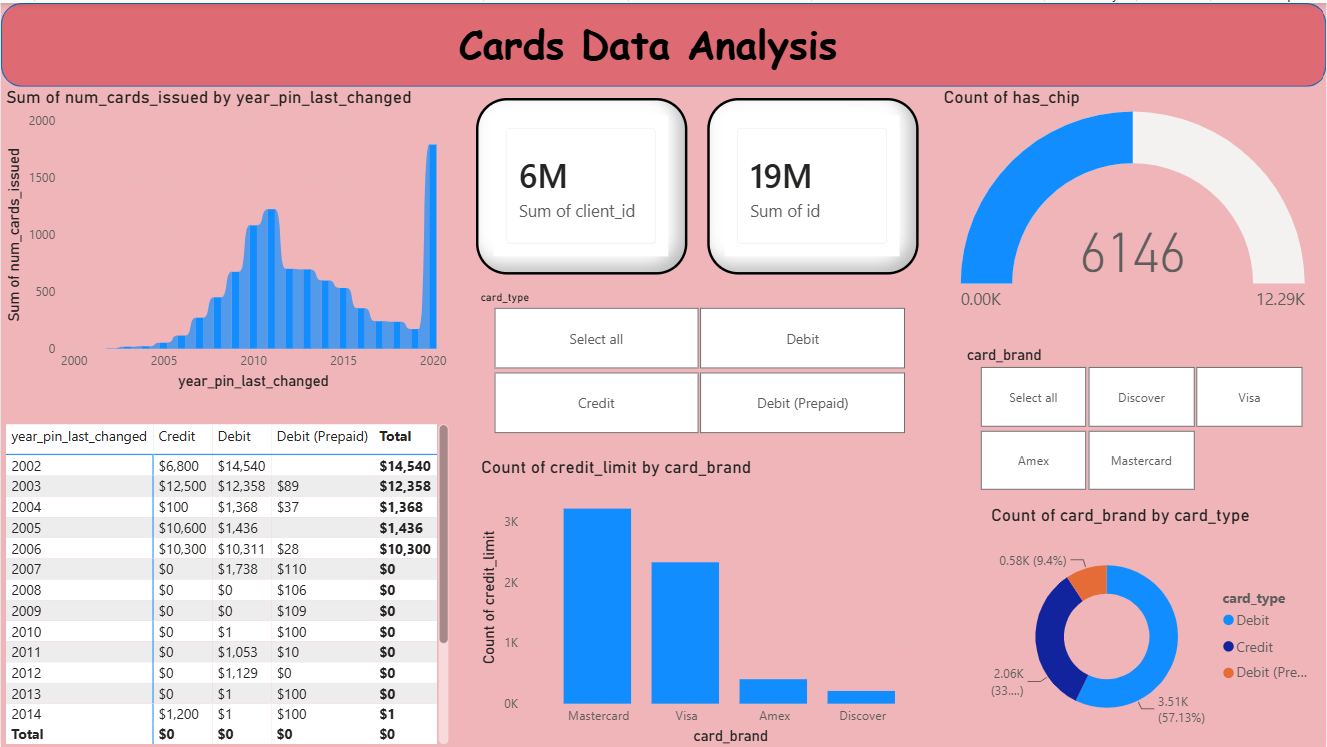

The dashboard page shown, as its layout file describes it:
{"tool":"powerbi","page":{"name":"Page 1","canvas":[1280,720],"ordinal":0},"visuals":[{"type":"shape","box":[0,0,1280,80.8],"z":0},{"type":"textbox","box":[436.7,8.4,409,65.1],"z":1000},{"type":"donutChart","fields":{"Category":["cards-data-cleaned.card_type"],"Y":["CountNonNull(cards-data-cleaned.card_brand)"]},"box":[950.7,483.8,329.4,236.5],"z":2000},{"type":"clusteredColumnChart","fields":{"Category":["cards-data-cleaned.card_brand"],"Y":["CountNonNull(cards-data-cleaned.credit_limit)"]},"box":[458.4,437.9,446.4,282.3],"z":3000},{"type":"gauge","fields":{"Y":["CountNonNull(cards-data-cleaned.has_chip)"]},"box":[904.8,80.8,375.2,226.8],"z":4000},{"type":"ribbonChart","fields":{"Category":["cards-data-cleaned.year_pin_last_changed"],"Y":["Sum(cards-data-cleaned.num_cards_issued)"]},"box":[0,80.8,436.7,296.8],"z":5000},{"type":"cardVisual","fields":{"Data":["Sum(cards-data-cleaned.client_id)"]},"box":[458.4,91.7,203.9,170.1],"z":6000},{"type":"cardVisual","fields":{"Data":["Sum(cards-data-cleaned.id)"]},"box":[681.6,91.7,203.9,170.1],"z":7000},{"type":"pivotTable","fields":{"Rows":["cards-data-cleaned.year_pin_last_changed"],"Values":["Min(cards-data-cleaned.credit_limit)"],"Columns":["cards-data-cleaned.card_type"]},"box":[0,401.7,436.7,318.5],"z":8000},{"type":"slicer","fields":{"Values":["cards-data-cleaned.card_type"]},"box":[450,272.7,446.4,149.6],"z":9000},{"type":"slicer","fields":{"Values":["cards-data-cleaned.card_brand"]},"box":[919.3,325.7,360.7,150.8],"z":10000}]}

Visuals, with their boxes in screenshot pixels (x1, y1, x2, y2), scaled from the page's 1280x720 canvas onto the 1327x747 screenshot:
shape: <region>0, 0, 1326, 84</region>
textbox: <region>453, 9, 877, 76</region>
donutChart - cards-data-cleaned.card_type x CountNonNull(cards-data-cleaned.card_brand): <region>986, 502, 1326, 746</region>
clusteredColumnChart - cards-data-cleaned.card_brand x CountNonNull(cards-data-cleaned.credit_limit): <region>475, 454, 938, 746</region>
gauge - CountNonNull(cards-data-cleaned.has_chip): <region>938, 84, 1326, 319</region>
ribbonChart - cards-data-cleaned.year_pin_last_changed x Sum(cards-data-cleaned.num_cards_issued): <region>0, 84, 453, 392</region>
cardVisual - Sum(cards-data-cleaned.client_id): <region>475, 95, 687, 272</region>
cardVisual - Sum(cards-data-cleaned.id): <region>707, 95, 918, 272</region>
pivotTable - cards-data-cleaned.year_pin_last_changed x Min(cards-data-cleaned.credit_limit): <region>0, 417, 453, 746</region>
slicer - cards-data-cleaned.card_type: <region>467, 283, 929, 438</region>
slicer - cards-data-cleaned.card_brand: <region>953, 338, 1326, 494</region>
